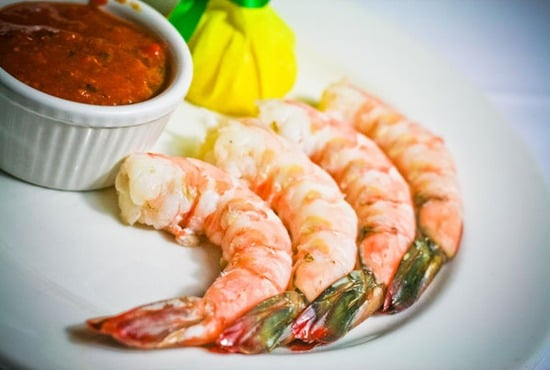sushi: (0, 0, 194, 191)
